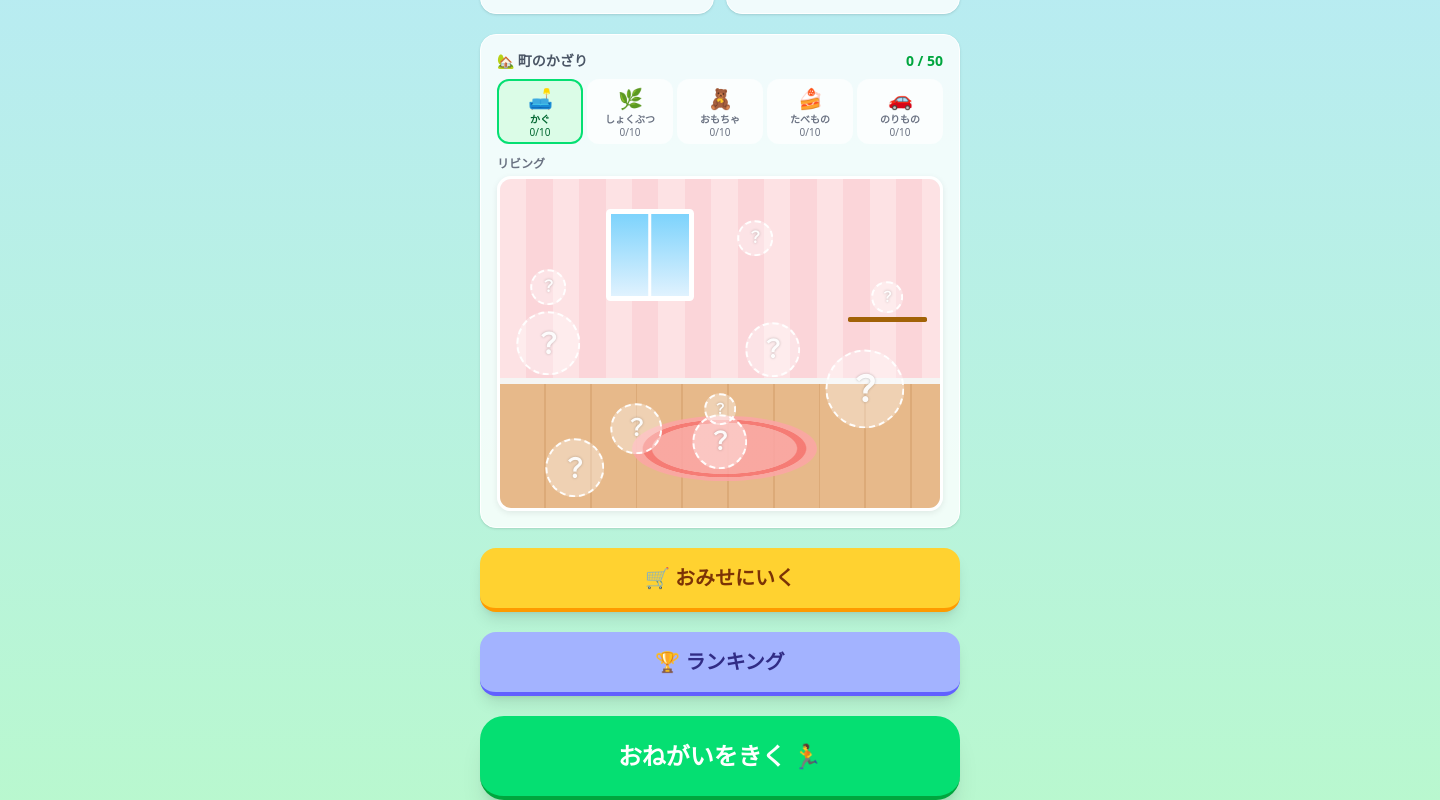
ページ全体の画面遷移 › 難易度選択画面の「もどる」でホームに戻る
(page scrolled)
Click the button "おねがいをきく 🏃": coordinates (720, 758) [480,716,960,799]
(page scrolled)
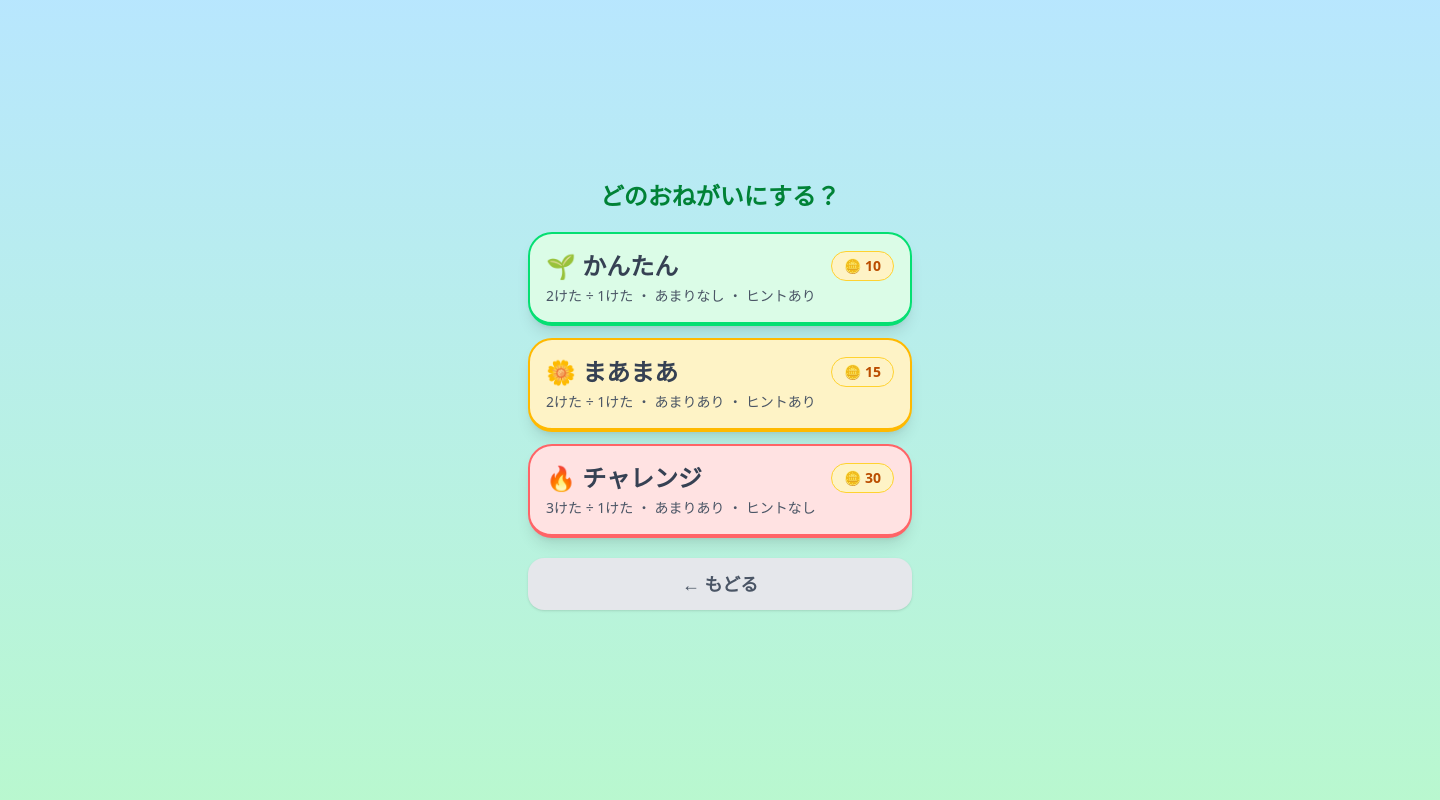
Click the button "← もどる": coordinates (720, 584) [528,558,912,610]
(page scrolled)
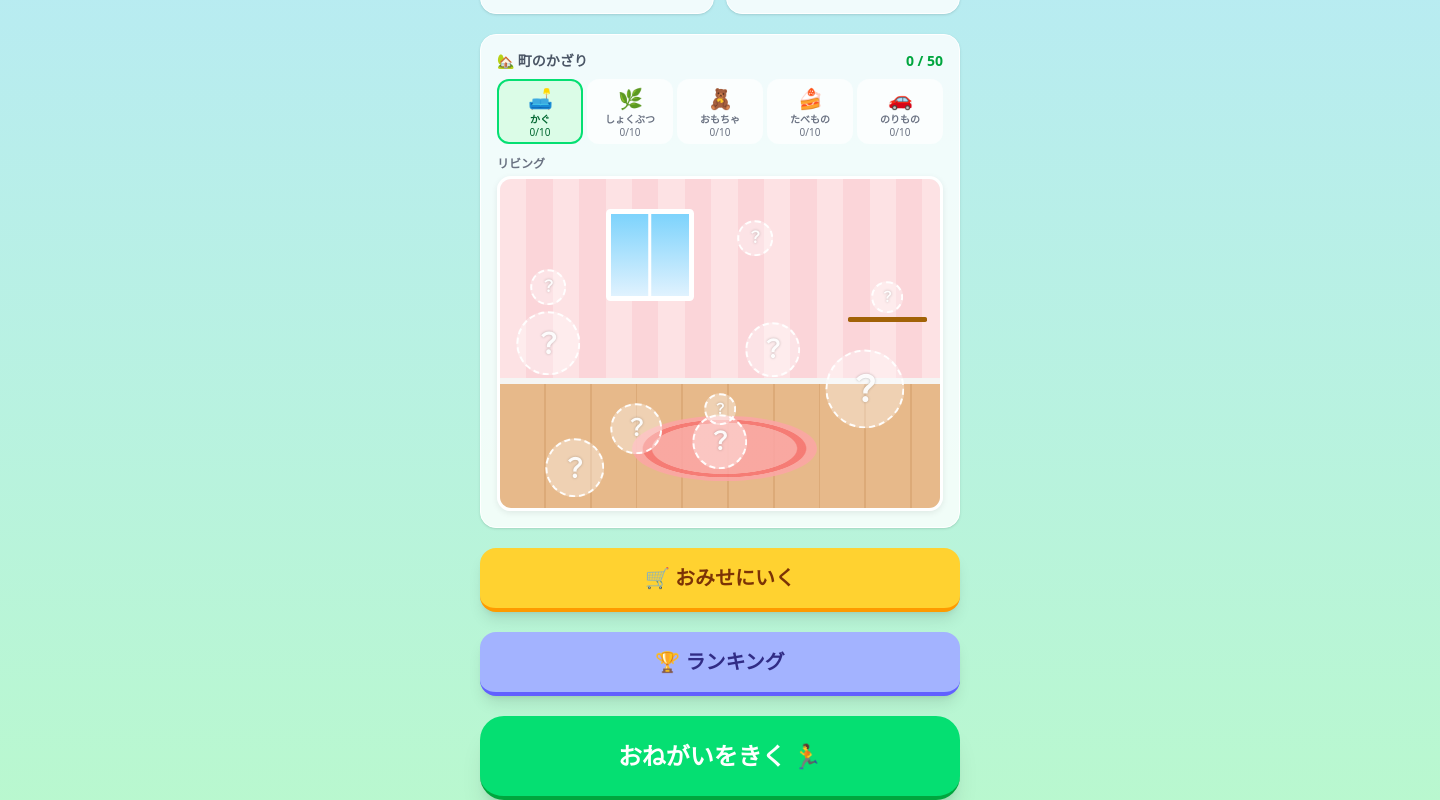
expect the button "おねがいをきく 🏃" is shown: met, box [480,716,960,799]
